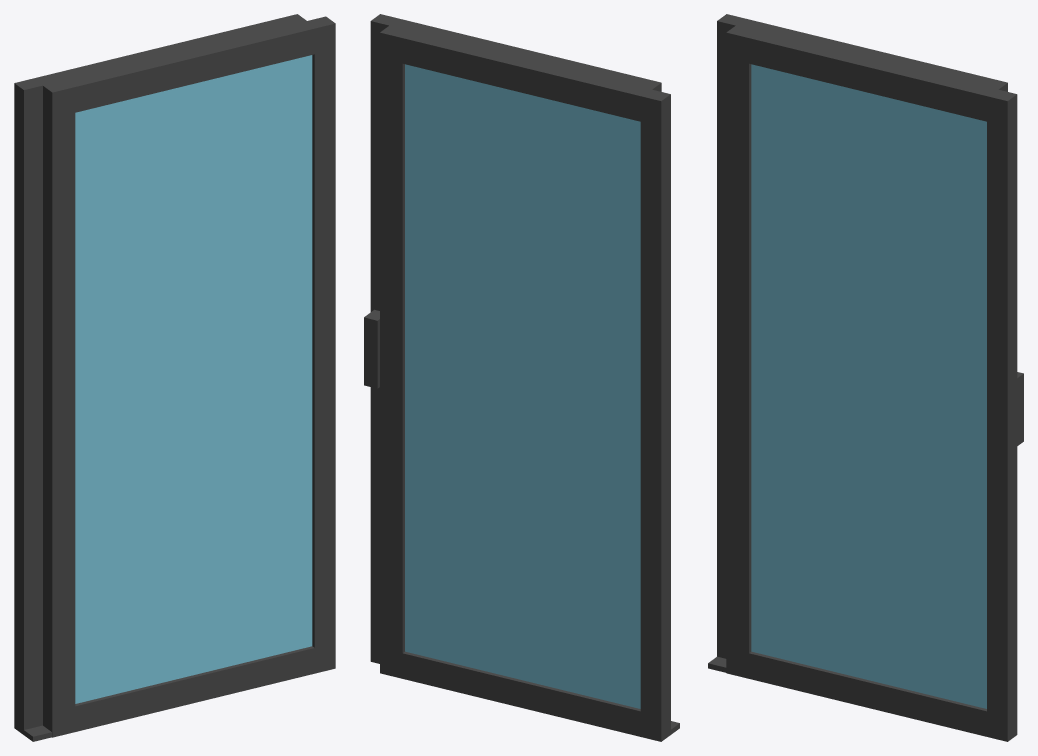
Rendered from WallWBricksSlidingDoorOpen.fbx.
The picture shows the model from 3 angles, left to right: view 1: azimuth 30°, elevation 25°; view 2: azimuth 150°, elevation 25°; view 3: azimuth 330°, elevation 25°; orthographic projection.
Visible parts, largest first — view 1: Cube.004, Cube.006; view 2: Cube.006, Cube.004; view 3: Cube.004, Cube.006.
Boxes of the visible parts, <box> form: Cube.004: <box>43,16,335,737</box>; Cube.006: <box>14,14,306,741</box>; Cube.006: <box>380,25,679,741</box>; Cube.004: <box>364,14,661,663</box>; Cube.004: <box>726,25,1023,741</box>; Cube.006: <box>708,14,1007,672</box>.
Size of the model in its own units: 71.71 by 146 by 8.28.
